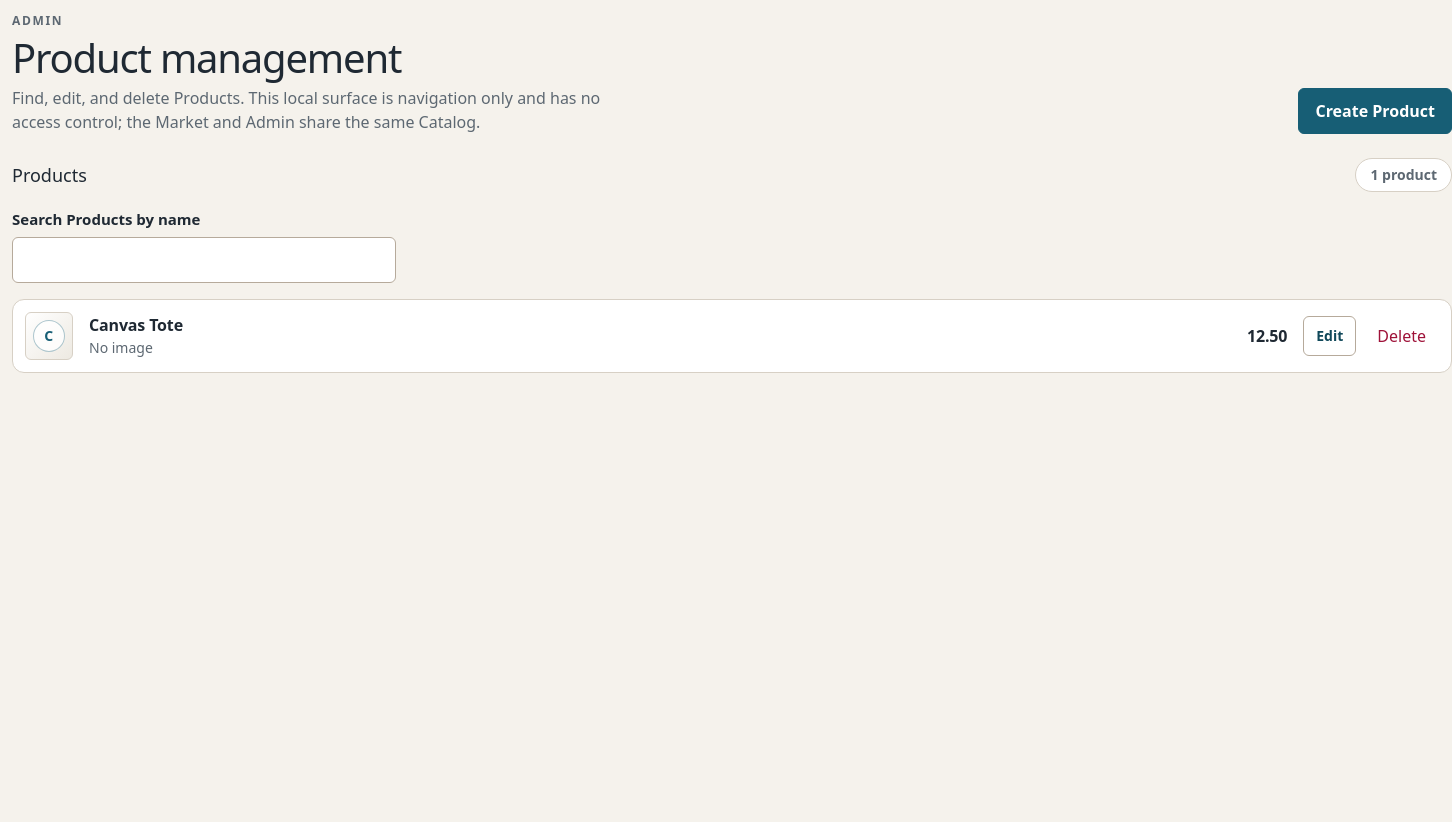
Scenario: AdminProducts › explains a Cart conflict and keeps the Product in place
The width and height of the screenshot is (1452, 822).
Click the button "Delete" at x=1402, y=336, box [1364, 316, 1439, 356]
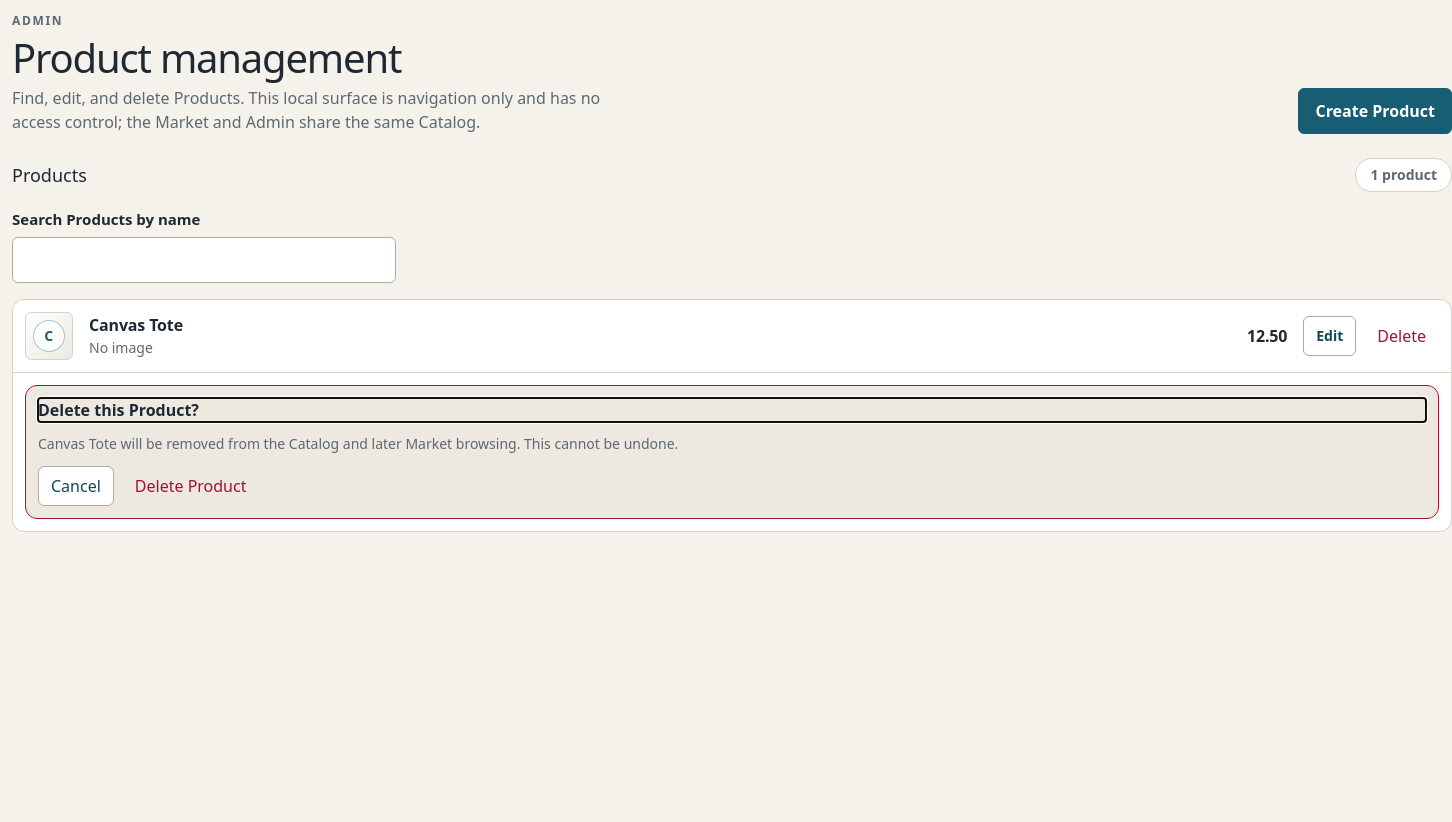
Click the button "Delete Product" at x=191, y=486, box [122, 466, 260, 506]
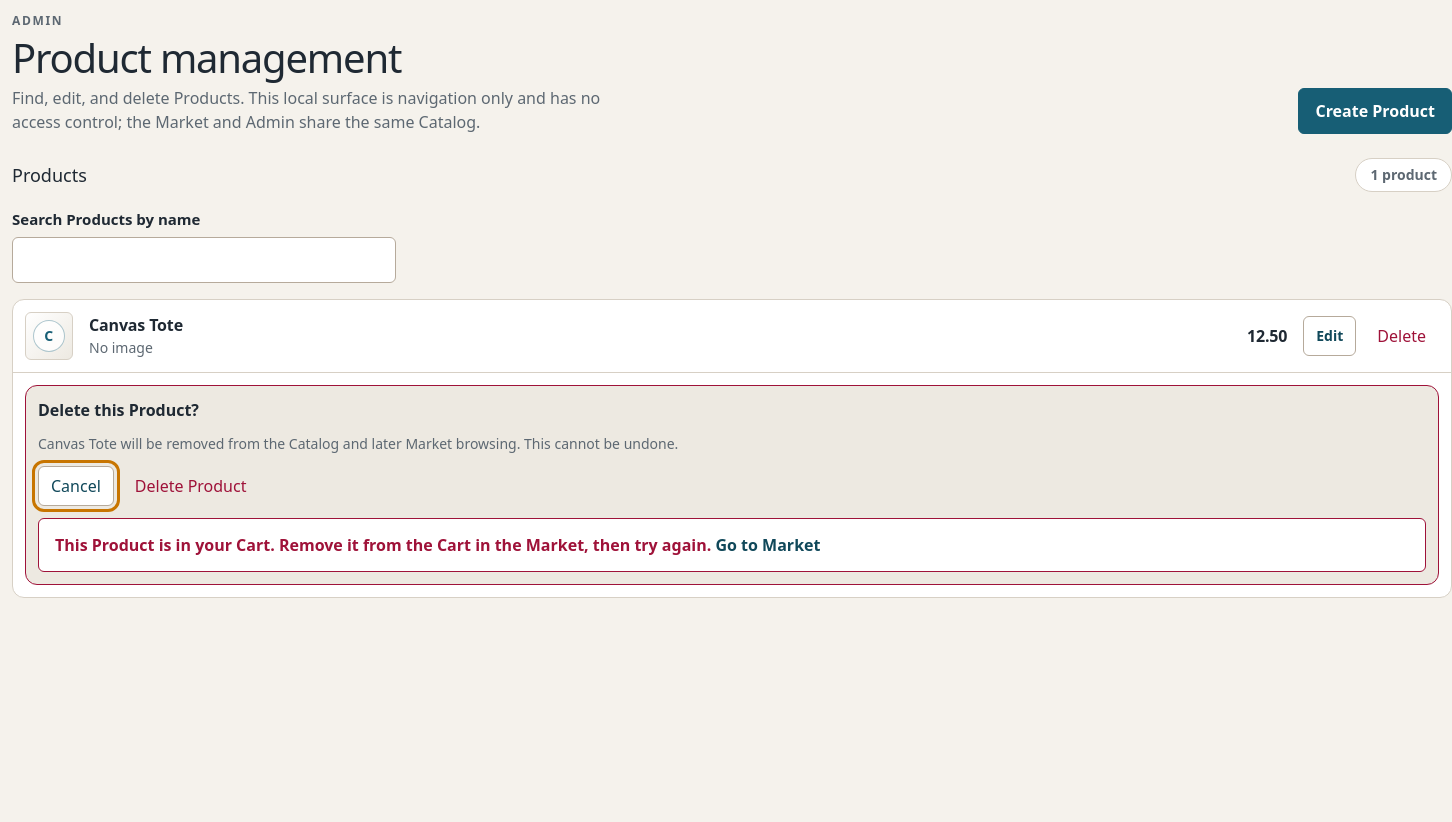
Check: the heading "Canvas Tote" is shown, box [89, 314, 183, 336]
Check: the heading "Delete this Product?" is shown, box [38, 398, 199, 420]
Check: the message shows "This Product is in your Cart.", box [55, 534, 711, 556]
